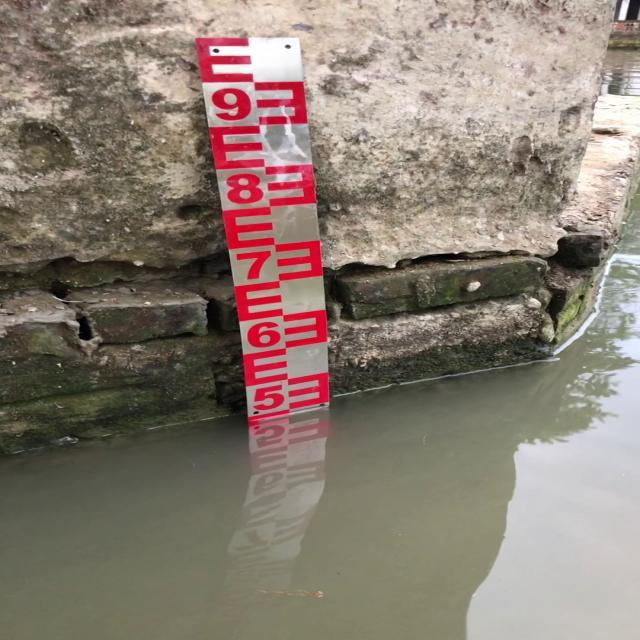ruler: (189, 24, 349, 428)
value: (202, 82, 260, 130), (213, 164, 270, 211), (227, 242, 279, 286), (240, 314, 287, 353), (246, 381, 290, 417)
